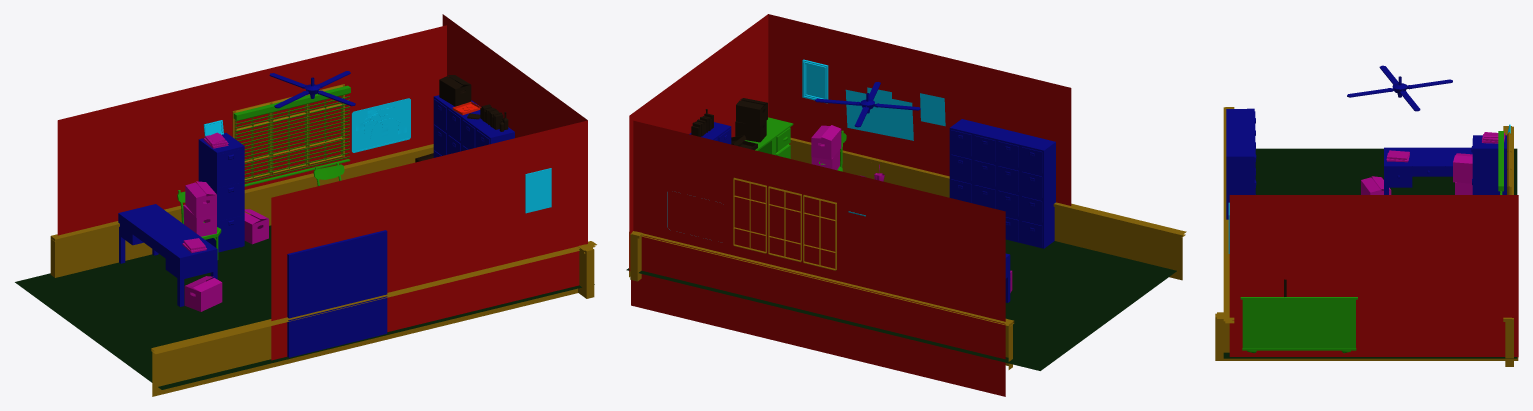
Rendered from bureau_police_pack (3).FBX.
3 renders of one model, left to right at view 1: azimuth 30°, elevation 25°; view 2: azimuth 150°, elevation 25°; view 3: azimuth 270°, elevation 25°, orthographic. The views are drawn at different scales.
Visible parts, largest first — view 1: mur_fenetre, mur_gauche, sol, tiroir grand001, Box016, Box012, store, Bureau, tiroir petit, tiroir grand, panneau, Box015 (+12 smaller); view 2: mur_gauche, mur_fenetre, sol, tiroir grand001, Box016, Plane004, Box015, Box013, Box012, commode_basique, ptitcadre001, BOITE011 (+8 smaller); view 3: mur_fenetre, sol, commode_basique, tiroir grand001, Bureau, tiroir petit, Box020, ventilateur, Box015, Box016, BOITE004, Box012 (+2 smaller).
Part boxes in pixels (left/top/right/bottom): mur_fenetre: left=271, top=14, right=587, bottom=360; mur_gauche: left=57, top=25, right=446, bottom=235; sol: left=15, top=225, right=594, bottom=389; tiroir grand001: left=287, top=230, right=387, bottom=357; Box016: left=152, top=242, right=596, bottom=396; Box012: left=50, top=150, right=433, bottom=277; store: left=233, top=85, right=350, bottom=186; Bureau: left=118, top=204, right=217, bottom=306; tiroir petit: left=198, top=132, right=244, bottom=252; tiroir grand: left=433, top=95, right=514, bottom=157; panneau: left=351, top=98, right=410, bottom=152; Box015: left=151, top=241, right=595, bottom=353; mur_gauche: left=631, top=120, right=1005, bottom=396; mur_fenetre: left=629, top=14, right=1071, bottom=271; sol: left=626, top=239, right=1176, bottom=370; tiroir grand001: left=949, top=119, right=1055, bottom=248; Box016: left=789, top=142, right=1186, bottom=280; Plane004: left=845, top=89, right=913, bottom=140; Box015: left=790, top=138, right=1185, bottom=237; Box013: left=633, top=231, right=1014, bottom=326; Box012: left=629, top=232, right=1012, bottom=369; commode_basique: left=745, top=117, right=793, bottom=158; ptitcadre001: left=802, top=59, right=828, bottom=103; BOITE011: left=811, top=125, right=841, bottom=159; mur_fenetre: left=1229, top=195, right=1518, bottom=357; sol: left=1223, top=148, right=1517, bottom=358; commode_basique: left=1240, top=297, right=1357, bottom=353; tiroir grand001: left=1226, top=108, right=1256, bottom=219; Bureau: left=1384, top=147, right=1472, bottom=194; tiroir petit: left=1471, top=135, right=1506, bottom=194; Box020: left=1215, top=313, right=1518, bottom=360; ventilateur: left=1347, top=65, right=1452, bottom=111; Box015: left=1225, top=107, right=1234, bottom=323; Box016: left=1223, top=107, right=1232, bottom=321; BOITE004: left=1453, top=153, right=1472, bottom=183; Box012: left=1505, top=126, right=1513, bottom=366.
Size of the model in its own units: 1713 by 846 by 1027.
